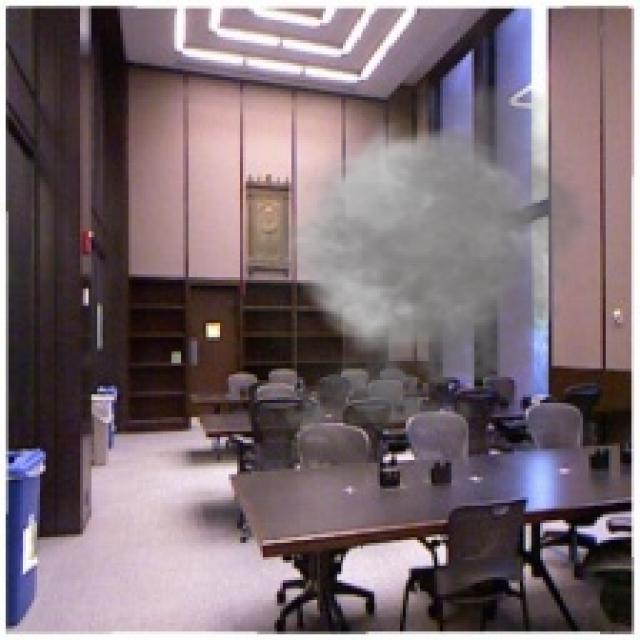smoke: (220, 69, 614, 457)
